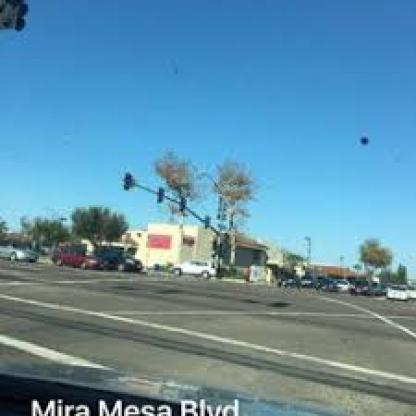car: (49, 236, 109, 272), (92, 243, 145, 280), (158, 257, 227, 281), (0, 231, 40, 268)
